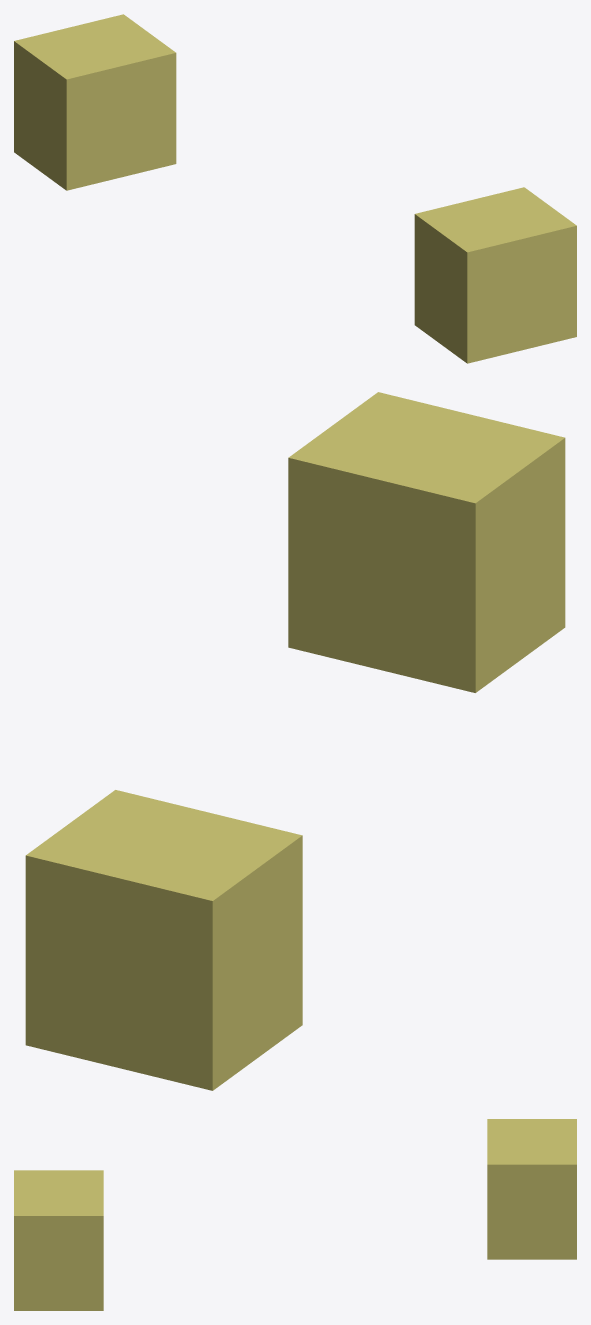
File: rabbits.glb
The picture shows the model from 3 angles, top to bottom: view 1: azimuth 30°, elevation 25°; view 2: azimuth 150°, elevation 25°; view 3: azimuth 270°, elevation 25°; orthographic projection. The views are drawn at different scales.
Visible parts, largest first — view 1: rabbit_001, rabbit_002; view 2: rabbit_001, rabbit_002; view 3: rabbit_001, rabbit_002.
Boxes of the visible parts, x1,y1,x2,y2 form: rabbit_001: [414, 187, 576, 363]; rabbit_002: [14, 14, 176, 190]; rabbit_001: [288, 392, 565, 692]; rabbit_002: [25, 790, 302, 1090]; rabbit_001: [14, 1170, 103, 1310]; rabbit_002: [487, 1119, 576, 1259].
Size of the model in its own units: 1.54 by 0.7023 by 3.78.
